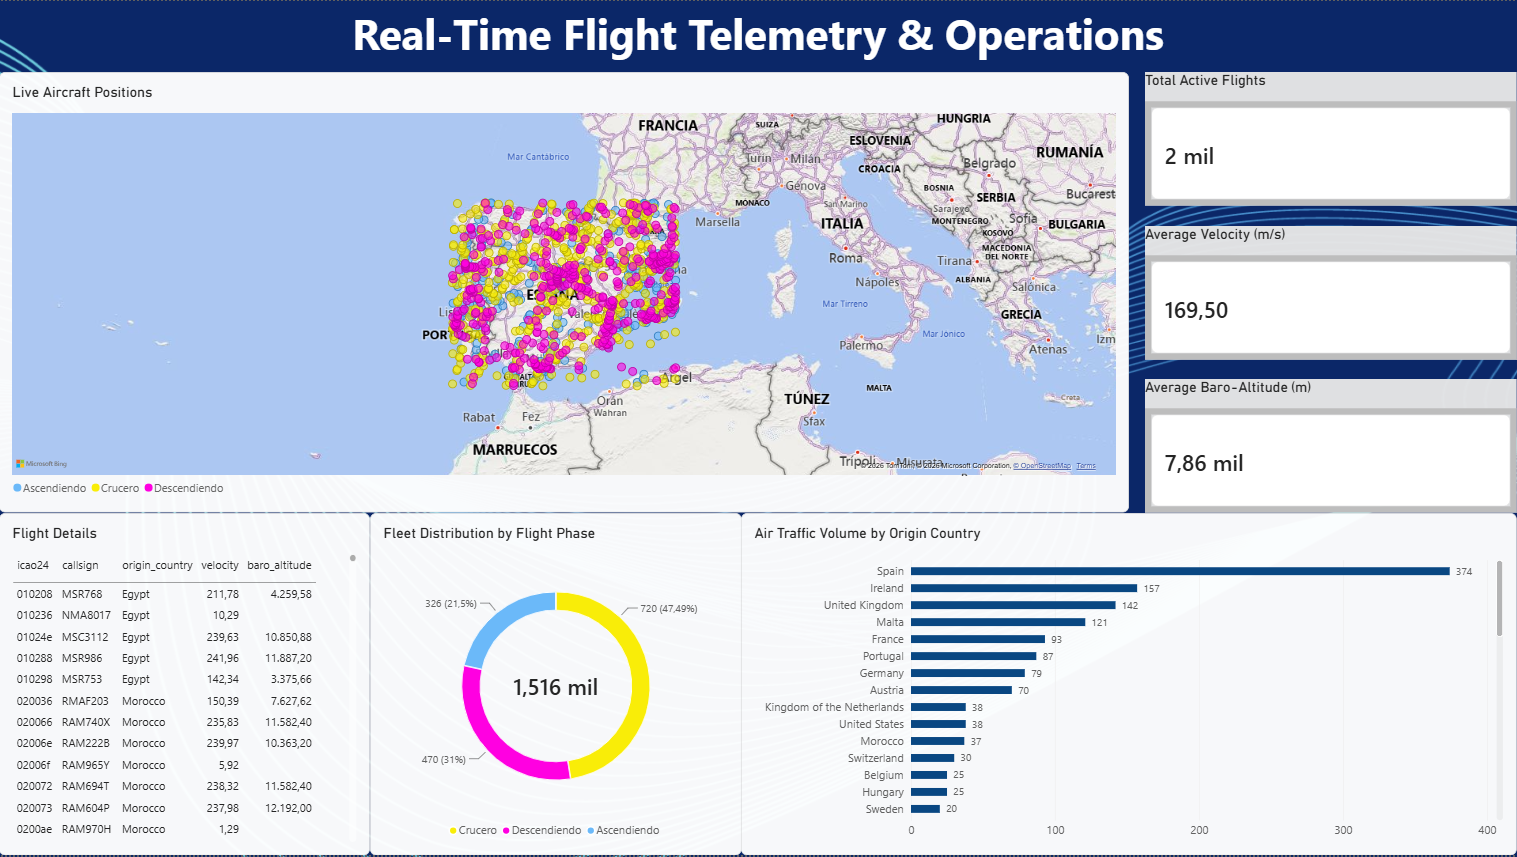

The page's visual inventory and layout, read from the dashboard file:
{"tool":"powerbi","page":{"name":"Home Dahsboard","canvas":[1920,1080],"ordinal":0},"visuals":[{"type":"tableEx","title":"Flight Details","fields":{"Values":["active_positions.icao24","active_positions.callsign","active_positions.origin_country","active_positions.velocity","active_positions.baro_altitude"]},"box":[0,647.5,468.8,432.5],"z":0},{"type":"map","title":"Live Aircraft Positions","fields":{"Series":["active_positions.flight_phase"],"X":["active_positions.longitude"],"Y":["active_positions.latitude"]},"box":[0,90,1429.3,557.5],"z":1000},{"type":"cardVisual","title":"Total Active Flights","fields":{"Data":["Sum(traffic_summary.total_flights)"]},"box":[1449.4,90,470.1,169.3],"z":2000},{"type":"cardVisual","title":"Average Velocity (m/s)","fields":{"Data":["Avg(traffic_summary.average_speed)"]},"box":[1449.4,284.8,470.1,169.3],"z":3000},{"type":"cardVisual","title":"Average Baro-Altitude (m)","fields":{"Data":["Avg(traffic_summary.average_barometric_altitude)"]},"box":[1449.4,478.2,470.1,169.3],"z":4000},{"type":"barChart","title":"Air Traffic Volume by Origin Country","fields":{"Category":["traffic_summary.origin_country"],"Y":["Sum(traffic_summary.total_flights)"]},"box":[939,647.5,980.6,432.5],"z":5000},{"type":"donutChart","title":"Fleet Distribution by Flight Phase","fields":{"Category":["active_positions.flight_phase"],"Y":["CountNonNull(active_positions.icao24)"]},"box":[468.8,647.5,470.1,432.5],"z":6000},{"type":"textbox","title":"Real-Time Flight Telemetry & Operations","box":[0,4,1919.6,86],"z":7000}]}

Visuals, with their boxes in screenshot pixels (x1, y1, x2, y2), scaled from the page's 1920x1080 canvas onto the 1517x857 screenshot:
"Flight Details" tableEx: Rect(0, 514, 370, 856)
"Live Aircraft Positions" map: Rect(0, 71, 1129, 514)
"Total Active Flights" cardVisual: Rect(1145, 71, 1516, 206)
"Average Velocity (m/s)" cardVisual: Rect(1145, 226, 1516, 360)
"Average Baro-Altitude (m)" cardVisual: Rect(1145, 379, 1516, 514)
"Air Traffic Volume by Origin Country" barChart: Rect(742, 514, 1516, 856)
"Fleet Distribution by Flight Phase" donutChart: Rect(370, 514, 742, 856)
"Real-Time Flight Telemetry & Operations" textbox: Rect(0, 3, 1516, 71)
